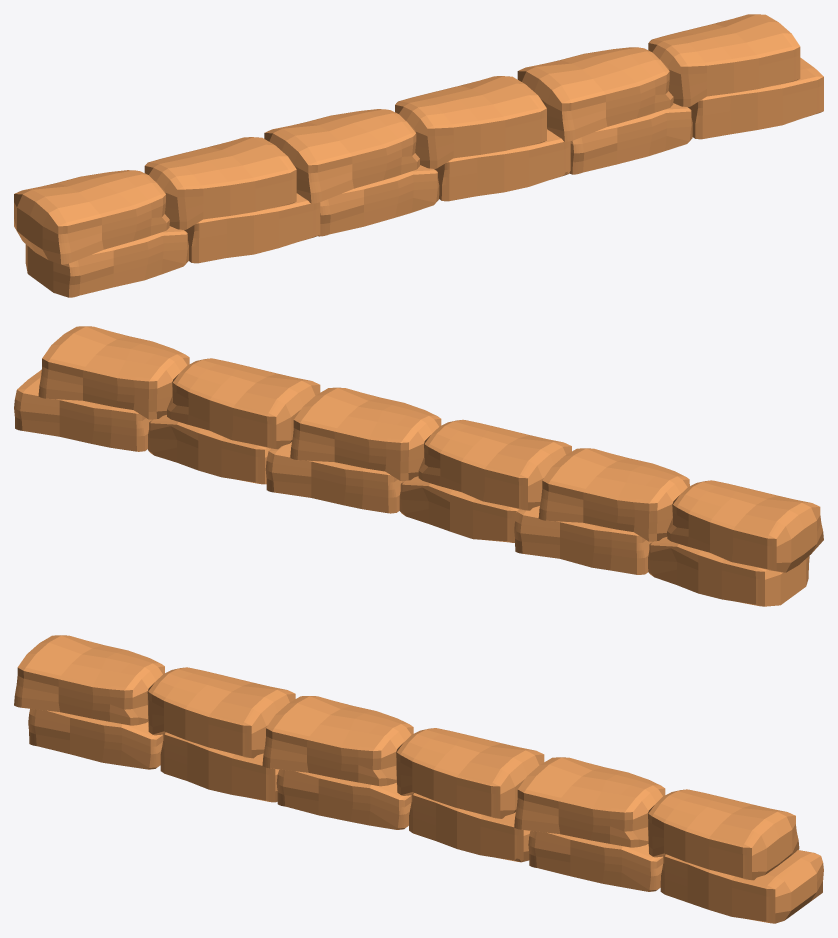
Rendered from sandbags.glb.
3 renders of one model, top to bottom at view 1: azimuth 30°, elevation 25°; view 2: azimuth 150°, elevation 25°; view 3: azimuth 330°, elevation 25°, orthographic.
Parts seen in each view (by area): view 1: Cube; view 2: Cube; view 3: Cube.
Part boxes in pixels (box(x1,y1,x2,y2)): Cube: box(14, 14, 823, 297); Cube: box(14, 326, 823, 606); Cube: box(14, 635, 823, 923).
Bounding box in the file's own units: 13.71 × 1.48 × 1.66.
